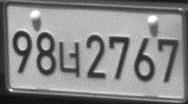2: (85, 33, 107, 79)
6: (133, 37, 155, 82)
7: (107, 34, 131, 81), (156, 37, 180, 84)
8: (35, 31, 57, 75)
9: (11, 29, 33, 75)
너: (58, 40, 81, 78)
